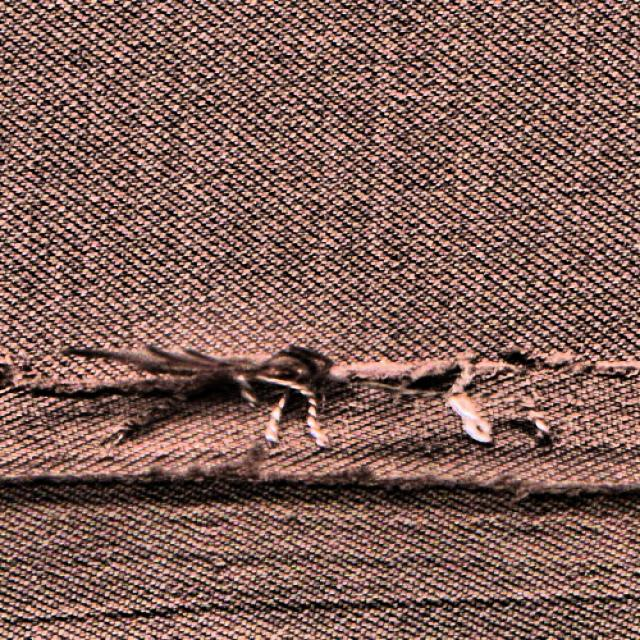Stitch: (4, 330, 639, 526)
